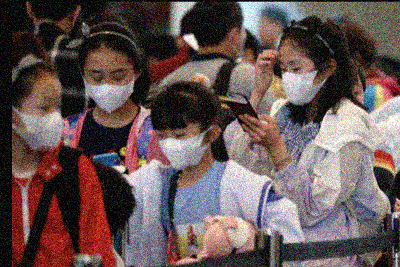with_mask: (153, 118, 208, 168), (82, 61, 133, 112), (22, 90, 64, 150), (276, 54, 321, 105)
